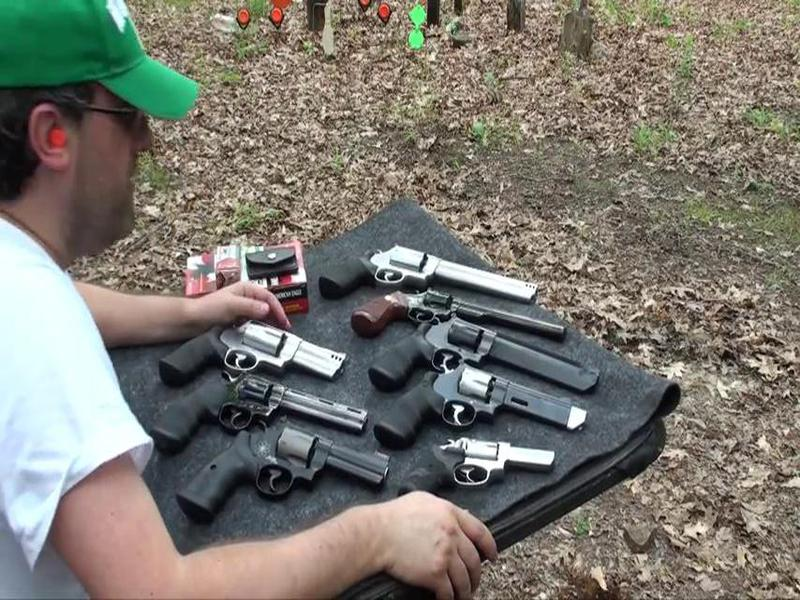Revolver: (374, 361, 589, 451)
